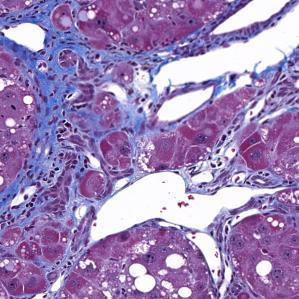fibrosis: (20, 52, 158, 177)
